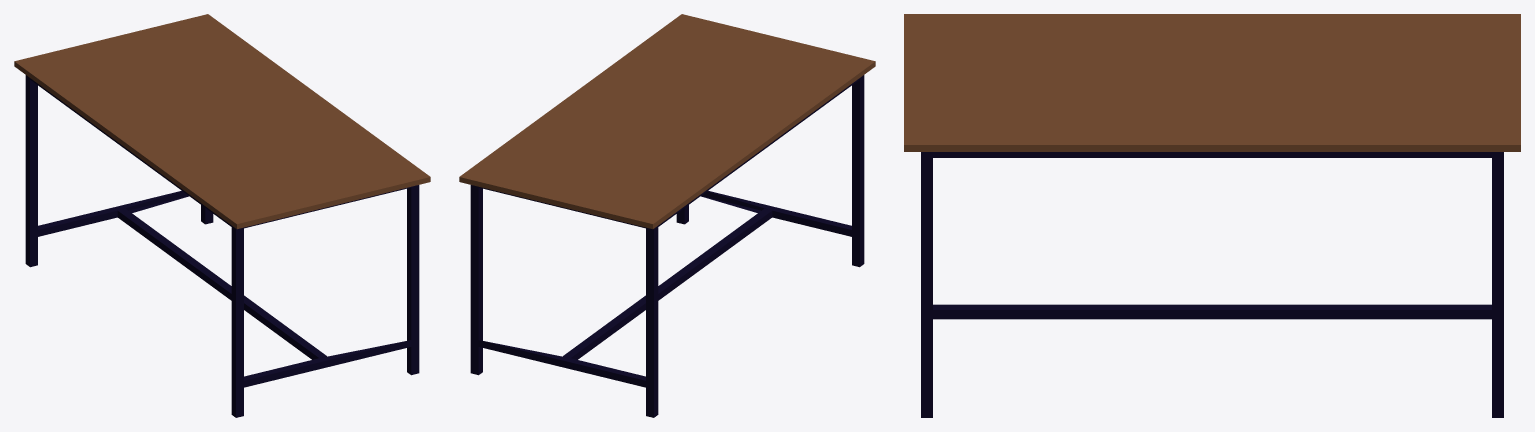
File: Table.fbx
The picture shows the model from 3 angles, left to right: view 1: azimuth 30°, elevation 25°; view 2: azimuth 150°, elevation 25°; view 3: azimuth 270°, elevation 25°; orthographic projection. The views are drawn at different scales.
Visible parts, largest first — view 1: 26. meja.001; view 2: 26. meja.001; view 3: 26. meja.001.
Boxes of the visible parts, x1,y1,x2,y2 form: 26. meja.001: (14, 14, 430, 417); 26. meja.001: (459, 14, 875, 417); 26. meja.001: (904, 14, 1520, 417).
Bounding box in the file's own units: 45.22 × 44.49 × 89.94.
